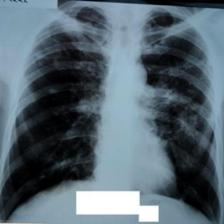tuberculosis: (1, 4, 224, 222)
